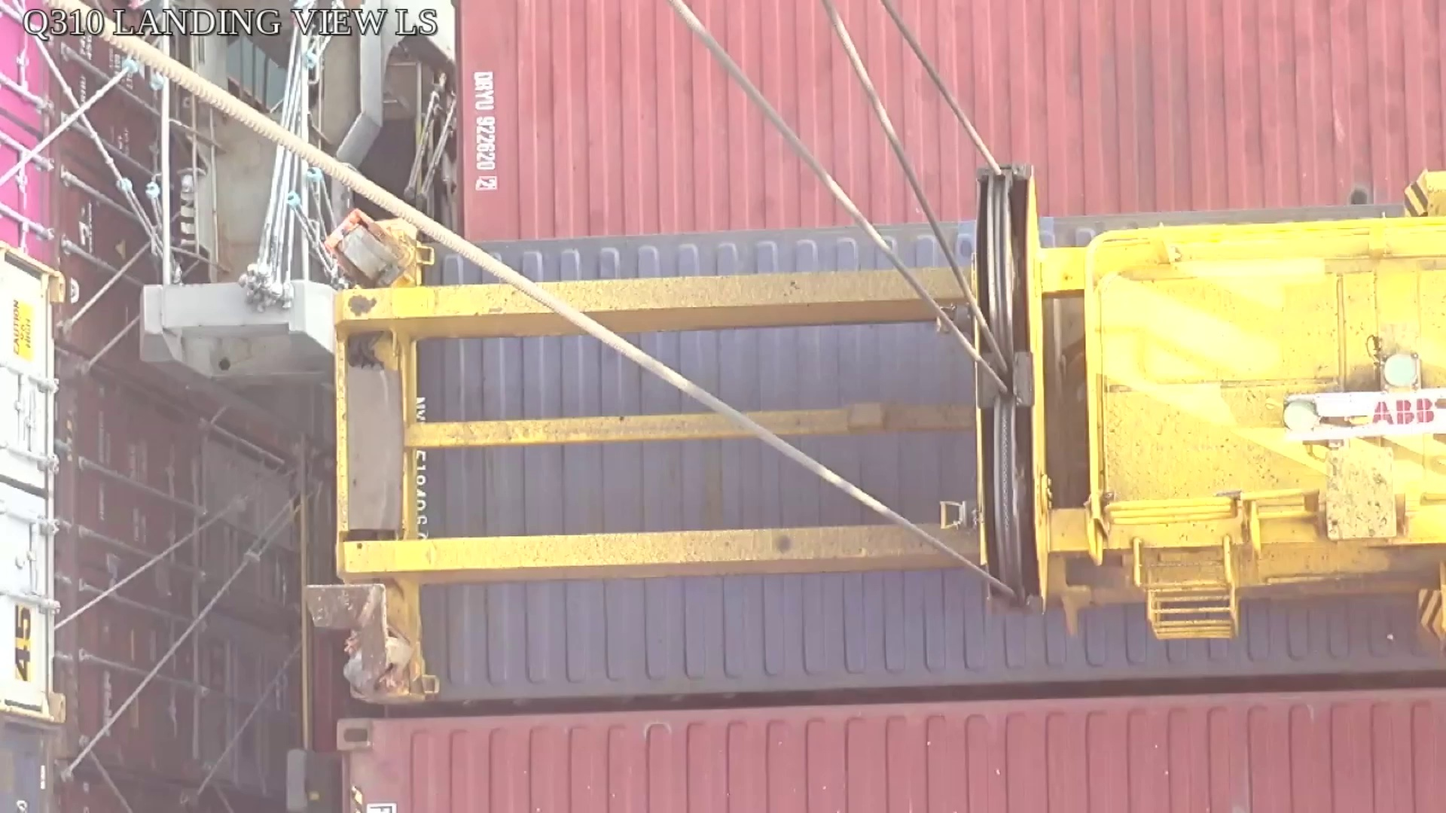aa: (972, 167, 1054, 617)
